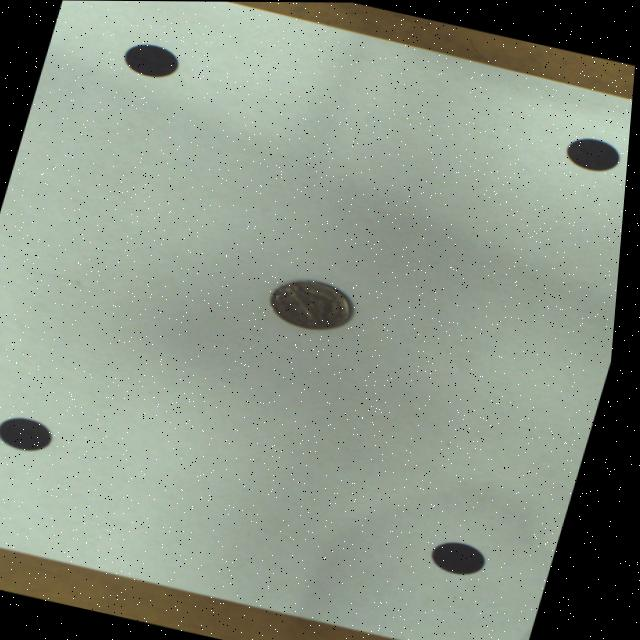space: (4, 417, 58, 451), (124, 44, 178, 77), (568, 137, 621, 170), (440, 541, 493, 574)
tail5bath: (275, 280, 358, 329)
